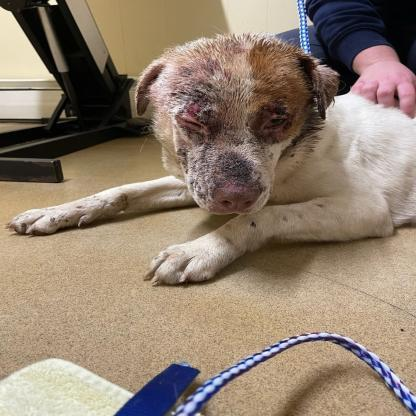dog: (114, 29, 416, 260)
